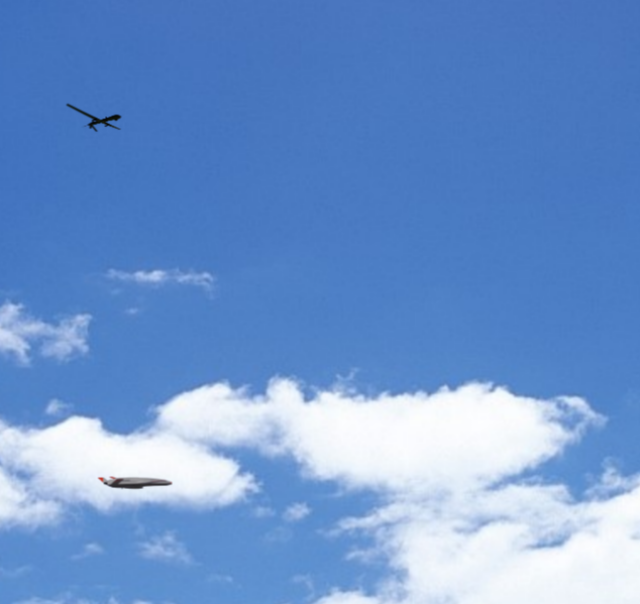military drone: (66, 103, 121, 132), (98, 475, 172, 489)
